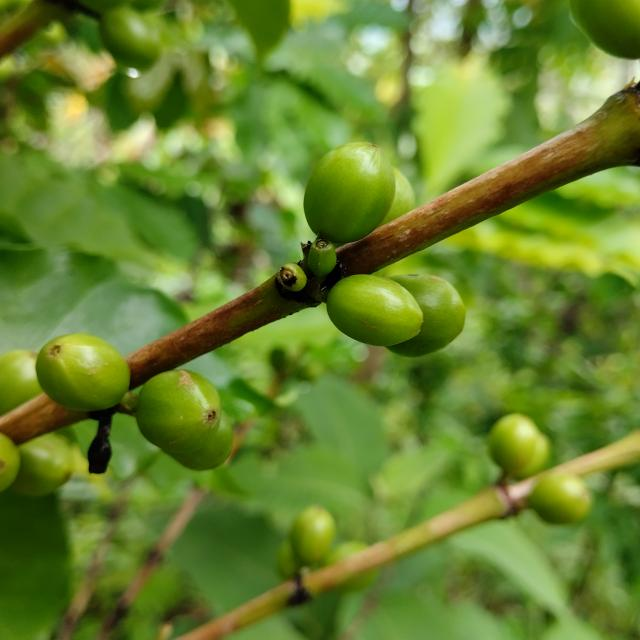green: (304, 141, 396, 244), (35, 334, 130, 412), (136, 370, 220, 453), (327, 275, 424, 346), (389, 274, 466, 357), (10, 434, 74, 497), (571, 0, 640, 58), (168, 412, 233, 471), (0, 350, 41, 416), (380, 167, 416, 225), (0, 433, 20, 493)
